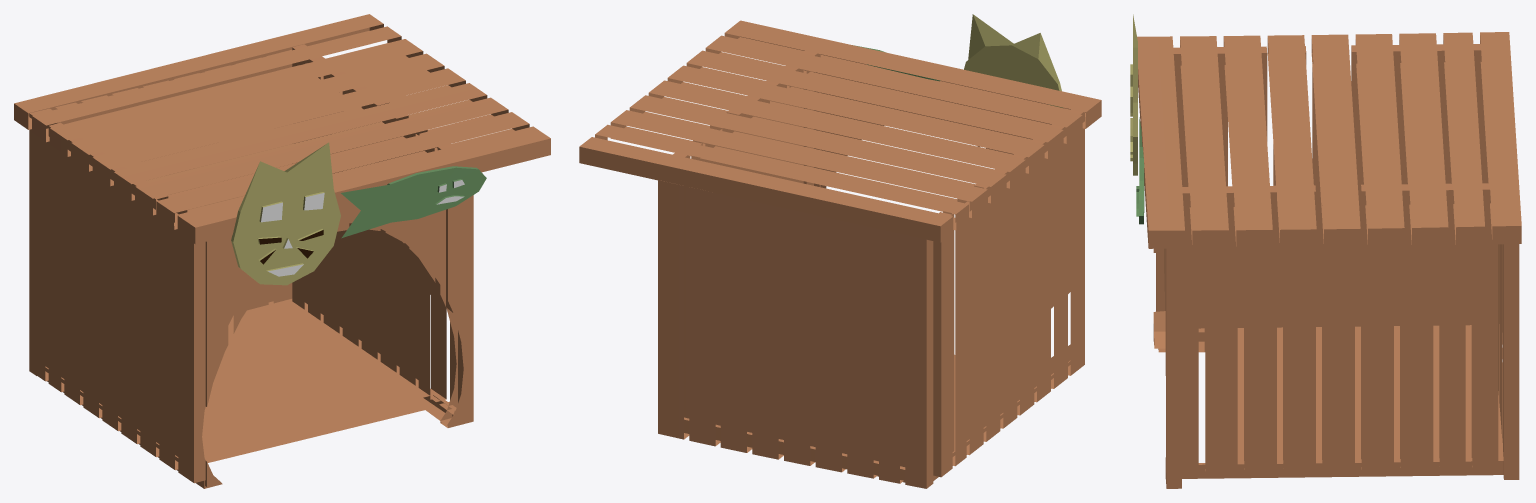
Rendered from FishHut.fbx.
3 views of the same model, side by side, from view 1: azimuth 30°, elevation 25°; view 2: azimuth 150°, elevation 25°; view 3: azimuth 270°, elevation 25° (orthographic). The views are drawn at different scales.
Visible parts, largest first — view 1: Plane.049, Cylinder.005, Cylinder.006; view 2: Plane.049, Cylinder.005; view 3: Plane.049, Cylinder.005, Cylinder.006.
Part boxes in pixels (box(x1,y1,x2,y2)): Plane.049: box(14, 14, 550, 488); Cylinder.005: box(231, 142, 340, 285); Cylinder.006: box(341, 166, 486, 238); Plane.049: box(579, 20, 1101, 488); Cylinder.005: box(964, 14, 1063, 108); Plane.049: box(1137, 32, 1521, 488); Cylinder.005: box(1130, 14, 1137, 175); Cylinder.006: box(1136, 117, 1144, 224).
Bounding box in the file's own units: 240 × 205 × 204.
